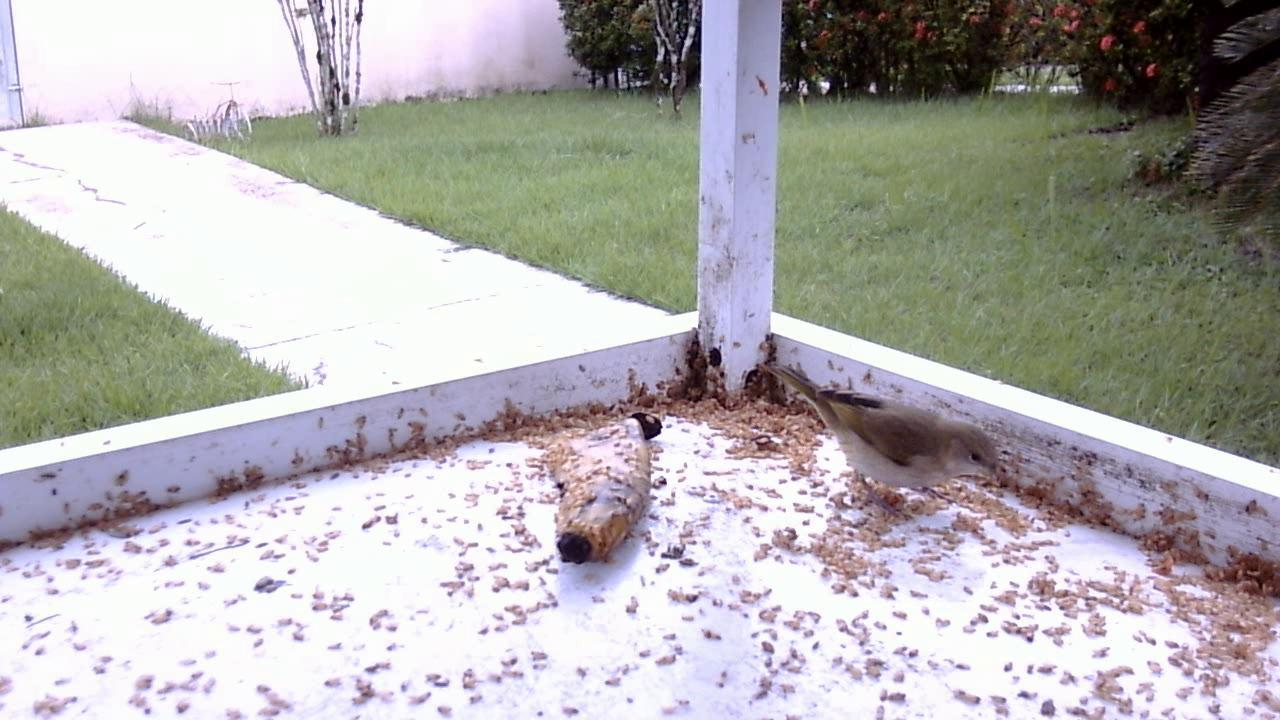canario_do_amazonas: (753, 376, 1004, 519)
